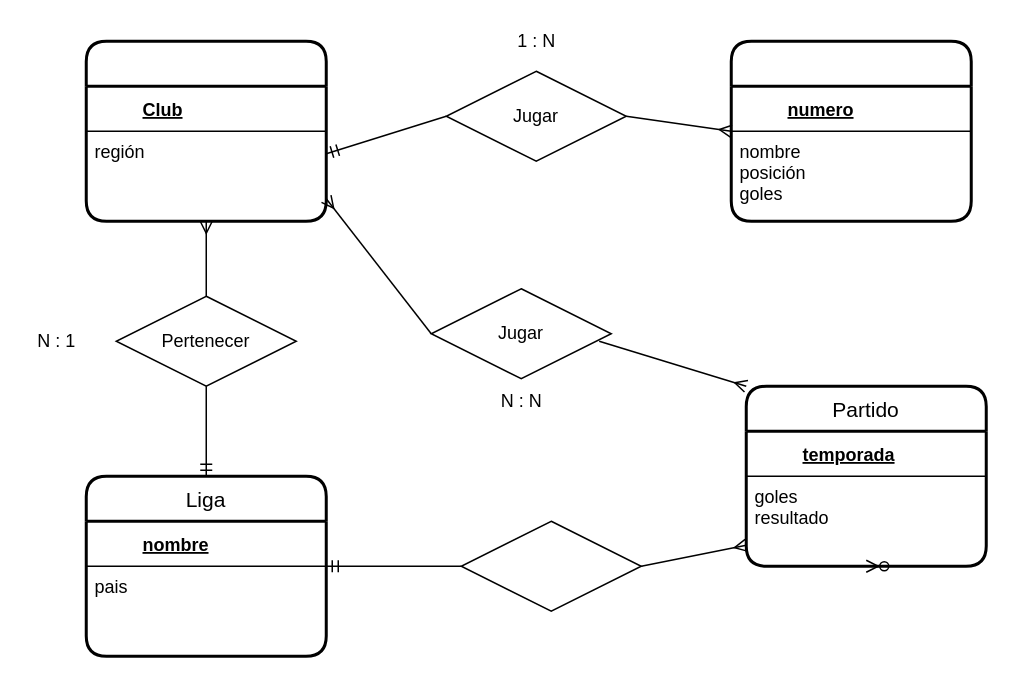
The diagram is 1013 pixels wide and 683 high, and some of its shapes have lost their labels. The shapes that lost their labels are listed below. From the top down, each one's box as (x1, y1, x2, y2) in pixels, then its label:
(84, 39, 327, 222): Equipo
(729, 39, 972, 222): Jugador
(460, 520, 641, 611): Pertenece
